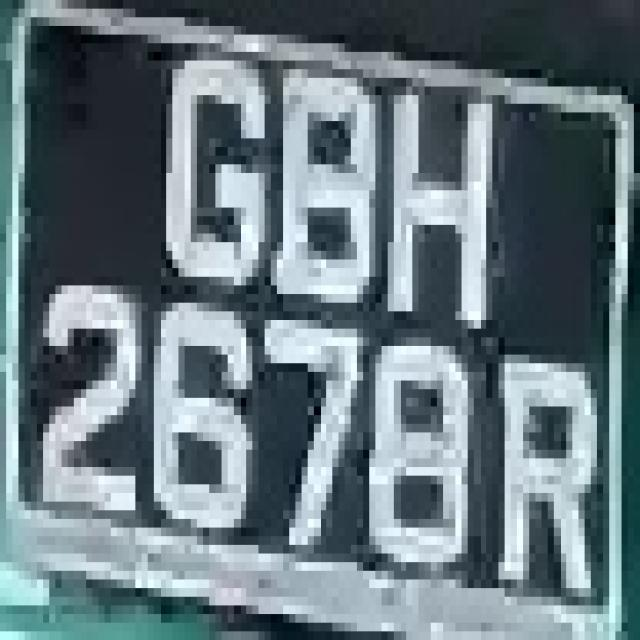2: (31, 251, 135, 545)
6: (148, 285, 258, 571)
7: (240, 303, 363, 571)
8: (351, 311, 474, 588)
B: (270, 52, 388, 337)
G: (142, 26, 283, 329)
H: (388, 61, 498, 354)
R: (486, 354, 597, 596)
